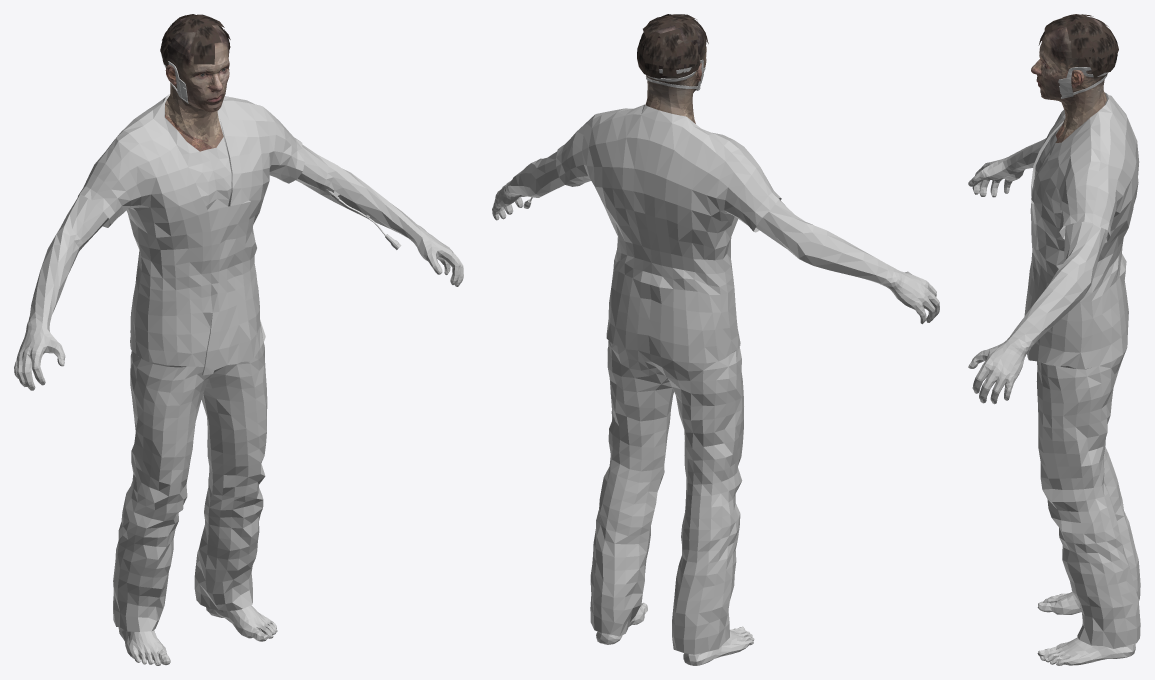
File: david.obj
3 views of the same model, side by side, from view 1: azimuth 30°, elevation 25°; view 2: azimuth 150°, elevation 25°; view 3: azimuth 270°, elevation 25° (orthographic).
Parts seen in each view (by area): view 1: 40839228_obj, 40b71b48_obj, 42910ee0_obj; view 2: 40839228_obj, 42910ee0_obj, 40b71b48_obj; view 3: 40839228_obj, 40b71b48_obj, 42910ee0_obj.
Part boxes in pixels (x1,y1,x2,y2): 40839228_obj: (14, 54, 463, 665); 40b71b48_obj: (165, 17, 229, 151); 42910ee0_obj: (160, 14, 230, 69); 40839228_obj: (492, 59, 939, 665); 42910ee0_obj: (637, 14, 708, 78); 40b71b48_obj: (645, 21, 706, 123); 40839228_obj: (968, 67, 1140, 665); 40b71b48_obj: (1031, 16, 1107, 142); 42910ee0_obj: (1038, 14, 1118, 78).
Size of the model in its own units: 4.01 by 5.4 by 1.37.
